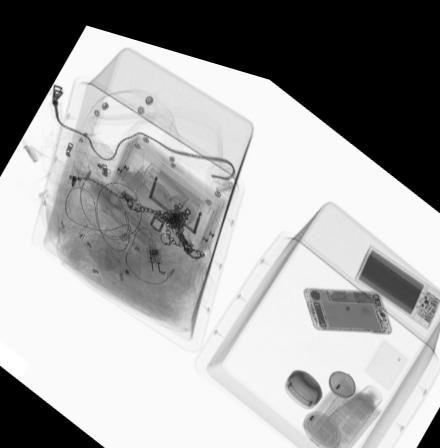Powerbank: (353, 219, 440, 304)
